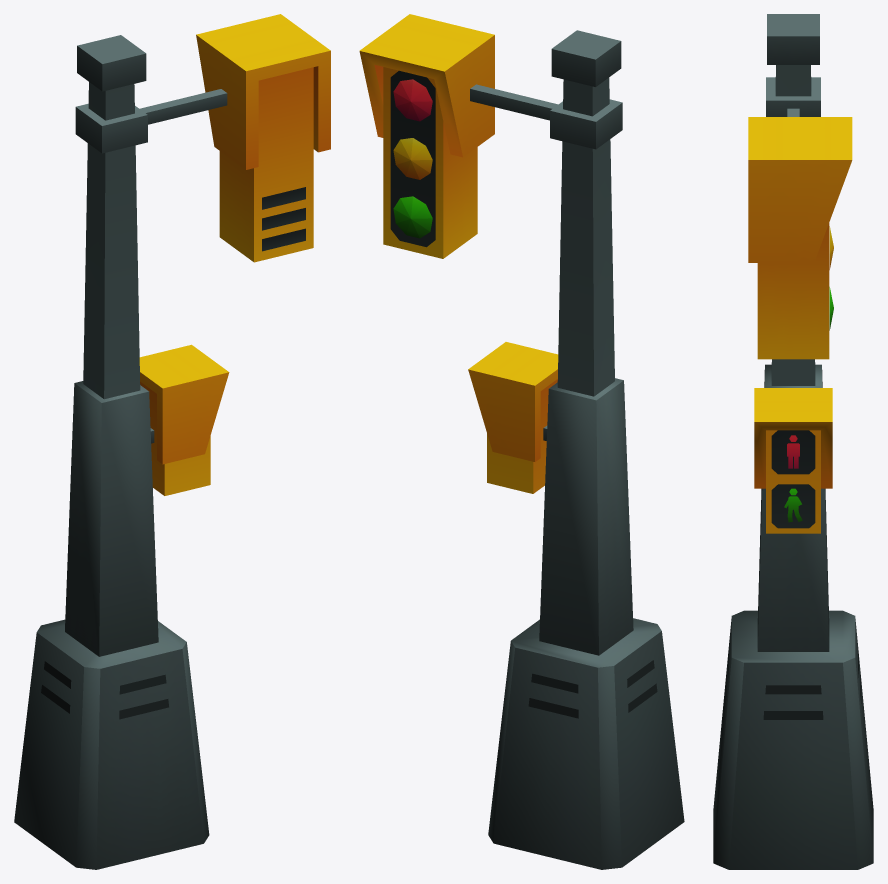
The model's file is Streetlight_3D.fbx.
3 renders of one model, left to right at view 1: azimuth 30°, elevation 25°; view 2: azimuth 150°, elevation 25°; view 3: azimuth 270°, elevation 25°, orthographic. The views are drawn at different scales.
Parts seen in each view (by area): view 1: Streetlight_3D, Stopsign_3D; view 2: Streetlight_3D, Stopsign_3D; view 3: Streetlight_3D, Stopsign_3D, Light_Green_3D, Light_Red_3D.
Part boxes in pixels (<box>): Streetlight_3D: <box>14,35,229,869</box>; Stopsign_3D: <box>75,14,330,262</box>; Streetlight_3D: <box>468,30,684,869</box>; Stopsign_3D: <box>359,14,622,258</box>; Streetlight_3D: <box>713,14,873,869</box>; Stopsign_3D: <box>748,77,852,359</box>; Light_Green_3D: <box>784,488,802,522</box>; Light_Red_3D: <box>787,435,799,468</box>.
Size of the model in its own units: 2.16 by 6.09 by 1.09.
